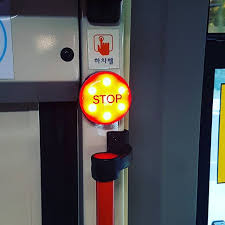bell: (78, 69, 134, 128)
